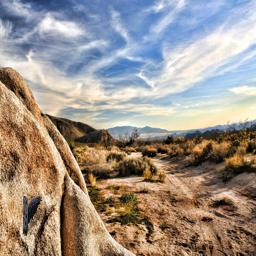Crow: (23, 196, 42, 236)
